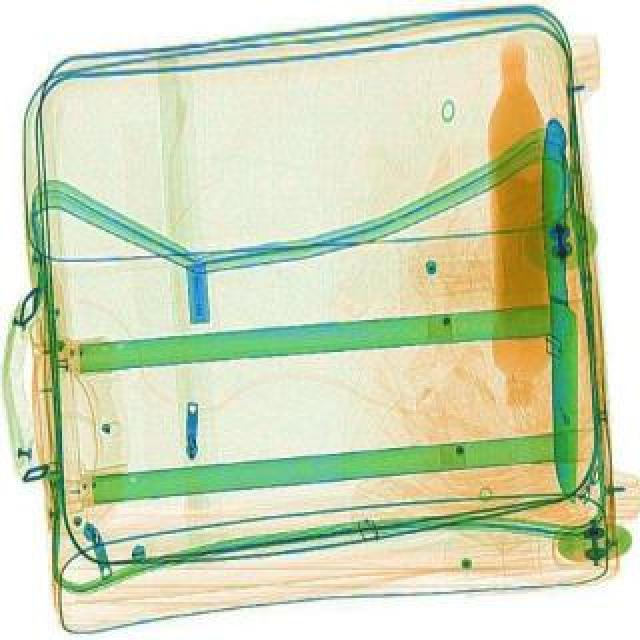knife: (534, 116, 586, 496)
